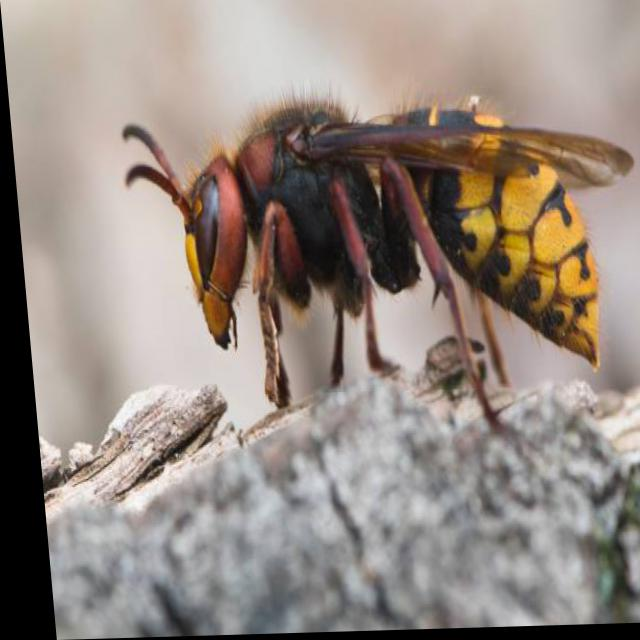Vespa Crabro: (92, 47, 639, 460)
